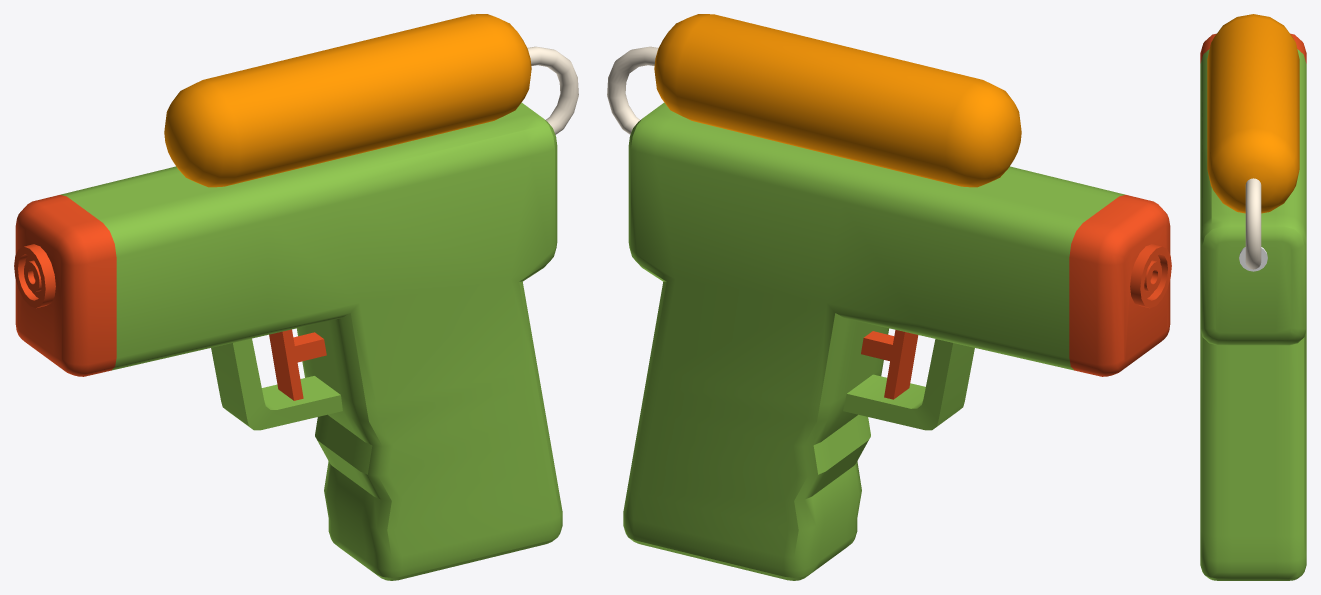
The model's file is water_pistol.gltf.
3 views of the same model, side by side, from view 1: azimuth 30°, elevation 25°; view 2: azimuth 150°, elevation 25°; view 3: azimuth 270°, elevation 25° (orthographic). The views are drawn at different scales.
Visible parts, largest first — view 1: Cube.996; view 2: Cube.996; view 3: Cube.996.
Part boxes in pixels (x1,y1,x2,y2): Cube.996: [14, 14, 578, 580]; Cube.996: [607, 14, 1171, 580]; Cube.996: [1200, 14, 1306, 580].
Bounding box in the file's own units: 2.16 × 1.95 × 0.432.
1 material, 1 textured.
